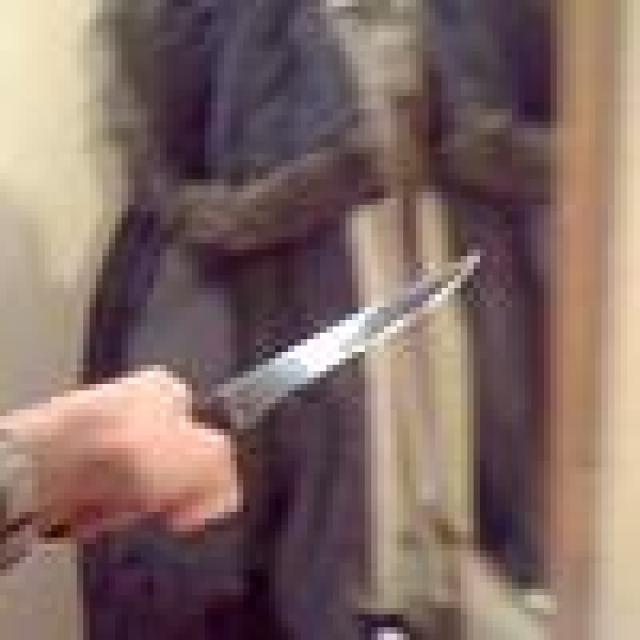knife: (206, 245, 498, 428)
